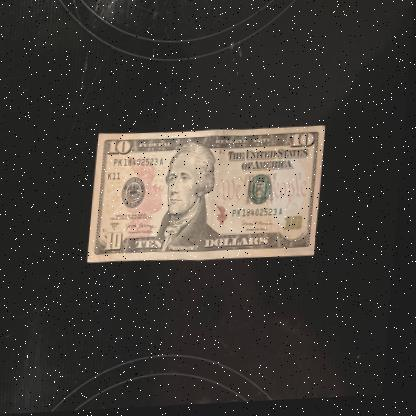ten-front: (90, 124, 327, 268)
